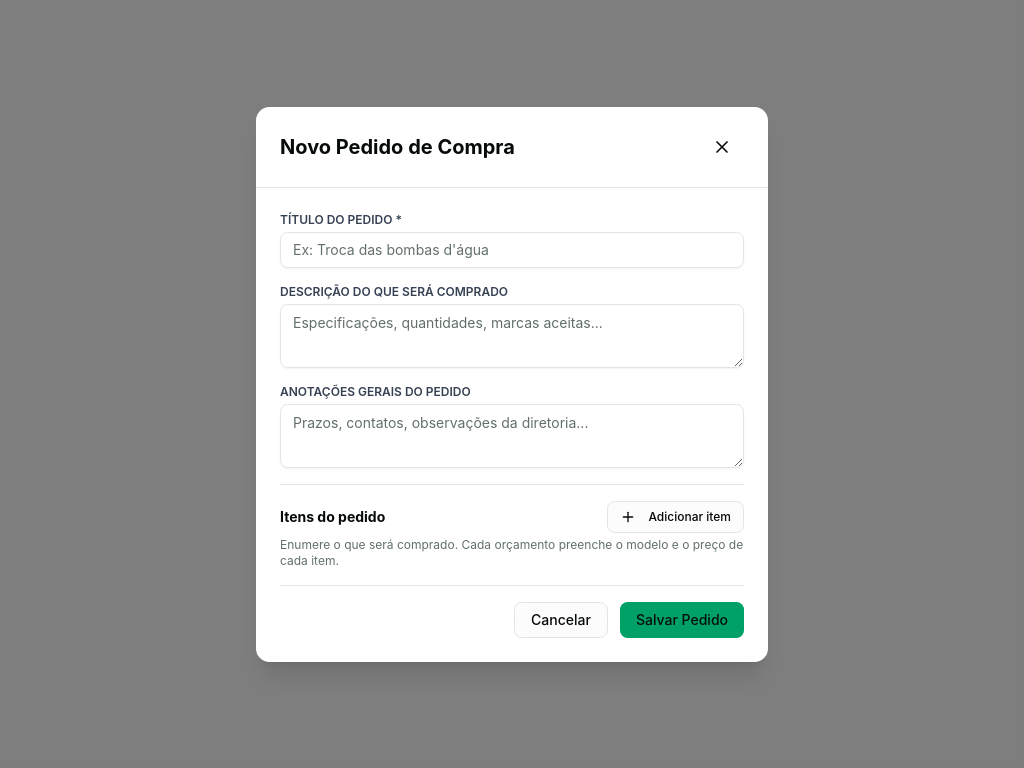
Test: PurchaseRequestFormModal › refuses a line with no description or a zero quantity
The image size is (1024, 768).
Type "Pedido" into the field labelled "Título do Pedido *". click: (512, 250)
box: [280,232,744,268]
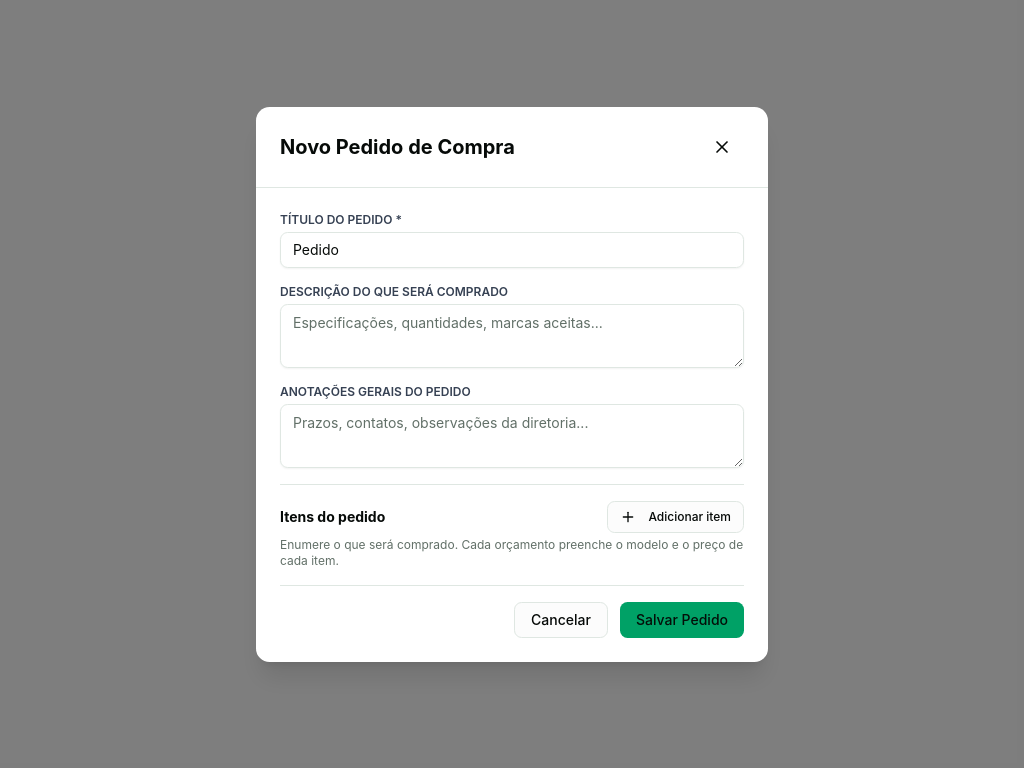
Click the button "Adicionar item". click: (676, 516)
box: [607,500,744,532]
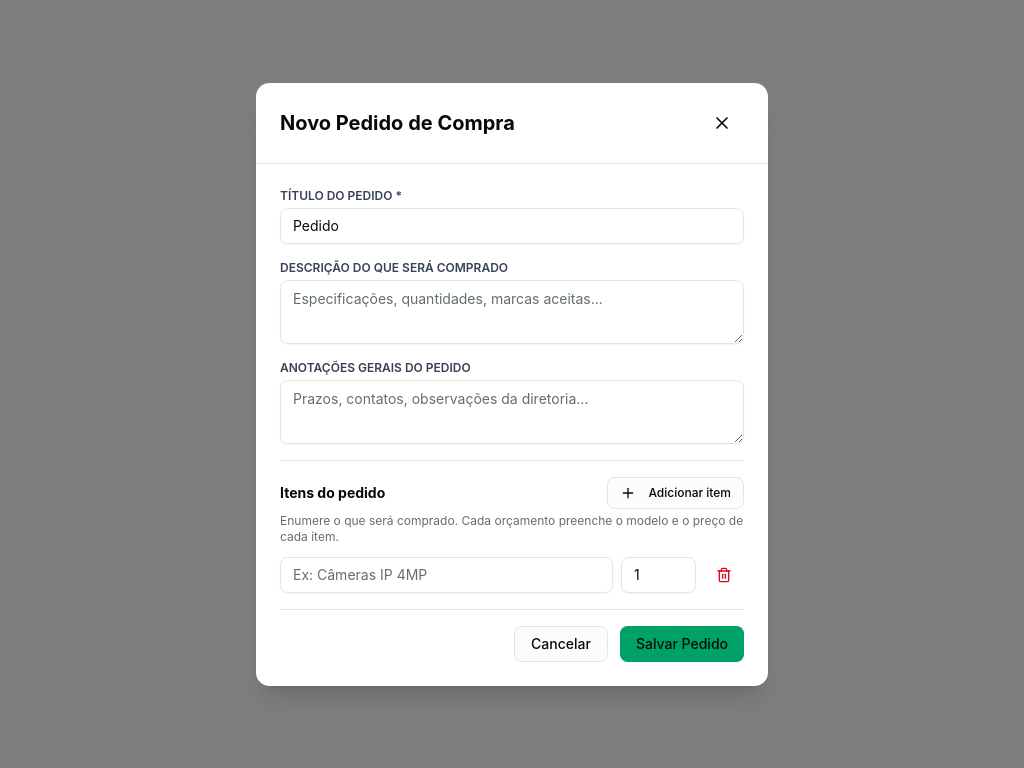
Submit the form with test id "purchase-request-form", box [256,164,768,686]
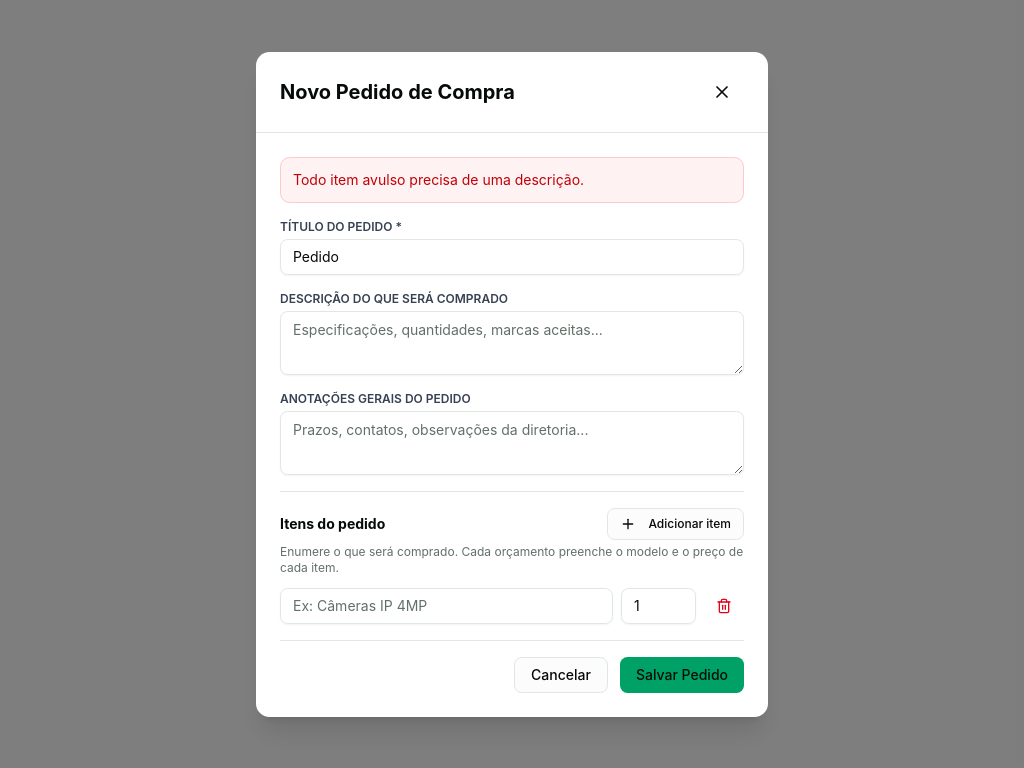
Expected: the text "Todo item avulso precisa de uma descrição." is shown, [280,156,744,202]
Type "Câmeras" into the field with test id "request-item-description-0". click: (446, 606)
box: [280,588,613,624]
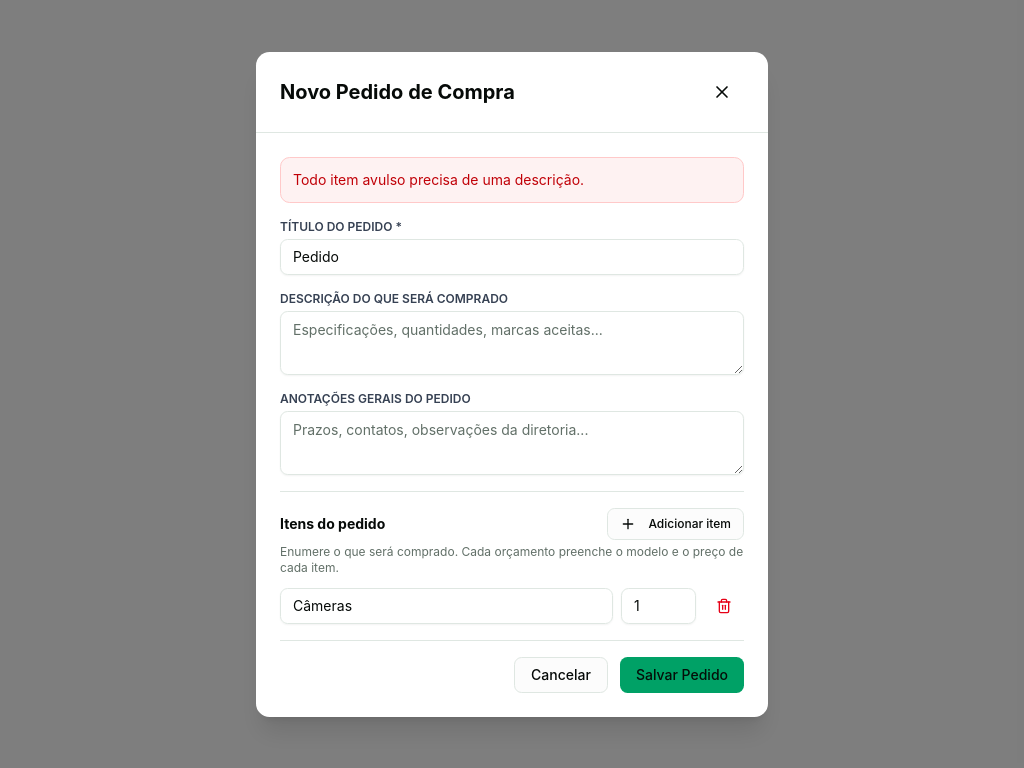
Replace the text in the number field with test id "request-item-quantity-0" with "0". click: (658, 606)
box: [621,588,696,624]
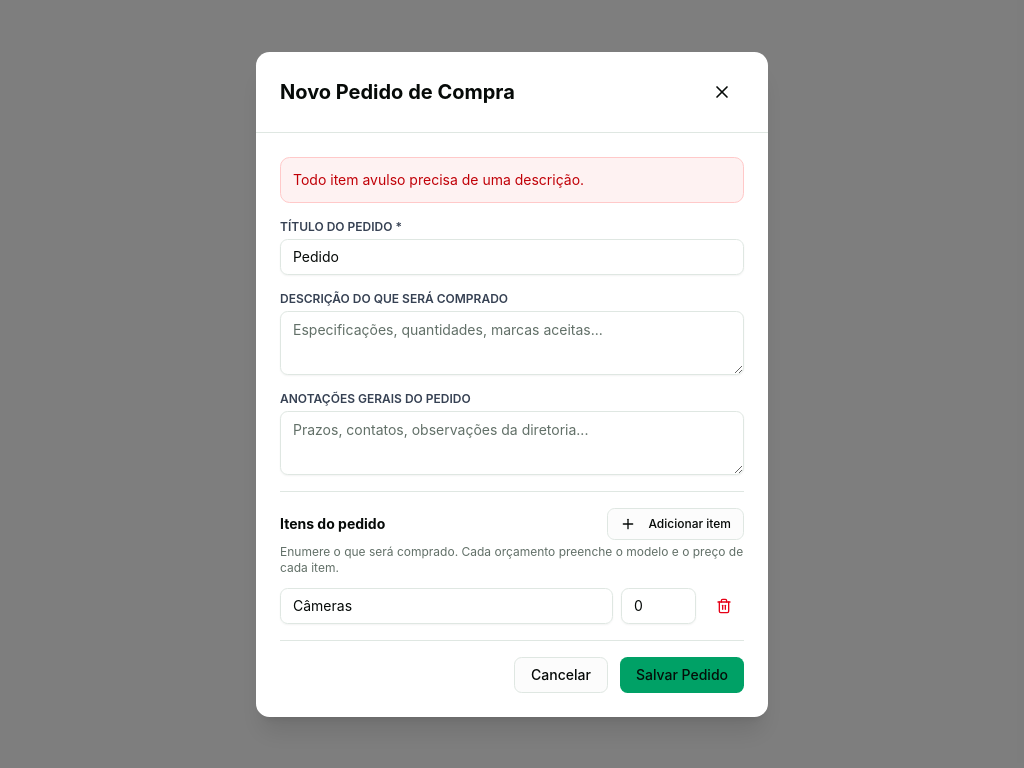
Submit the form with test id "purchase-request-form", box [256,132,768,716]
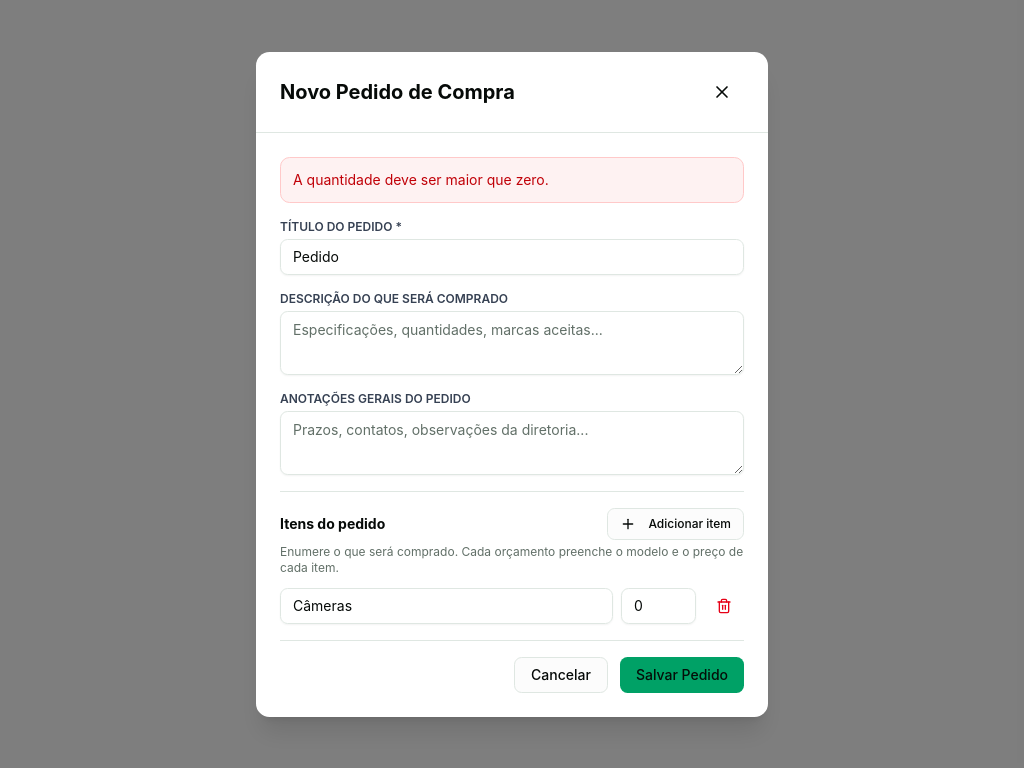
Expected: the text "A quantidade deve ser maior que zero." is shown, [280,156,744,202]
